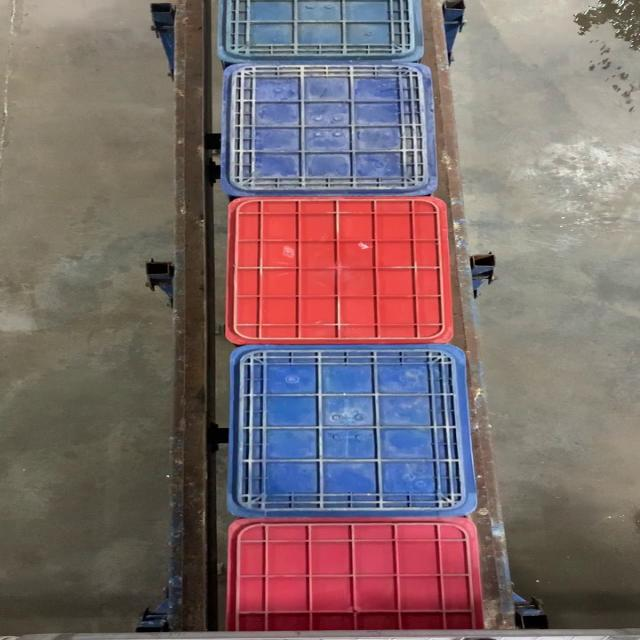Box: (223, 344, 478, 516), (221, 196, 457, 344), (215, 63, 439, 195)
